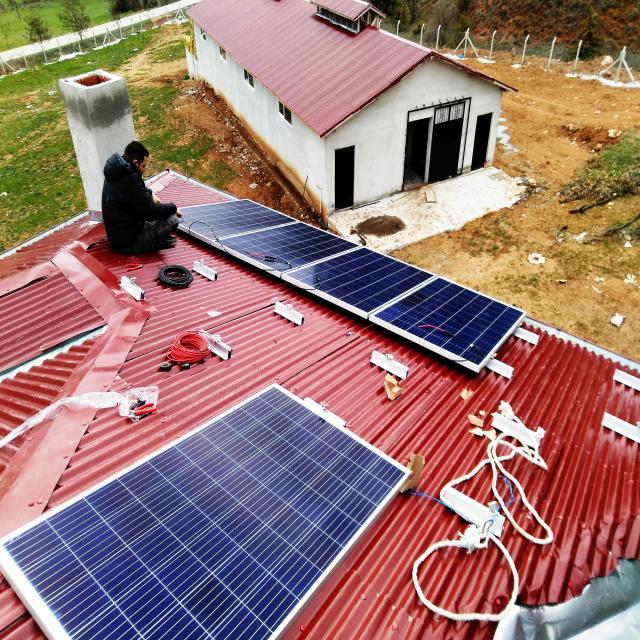no faulty: (2, 380, 407, 640), (177, 186, 354, 278), (375, 275, 524, 372), (287, 244, 437, 319)
